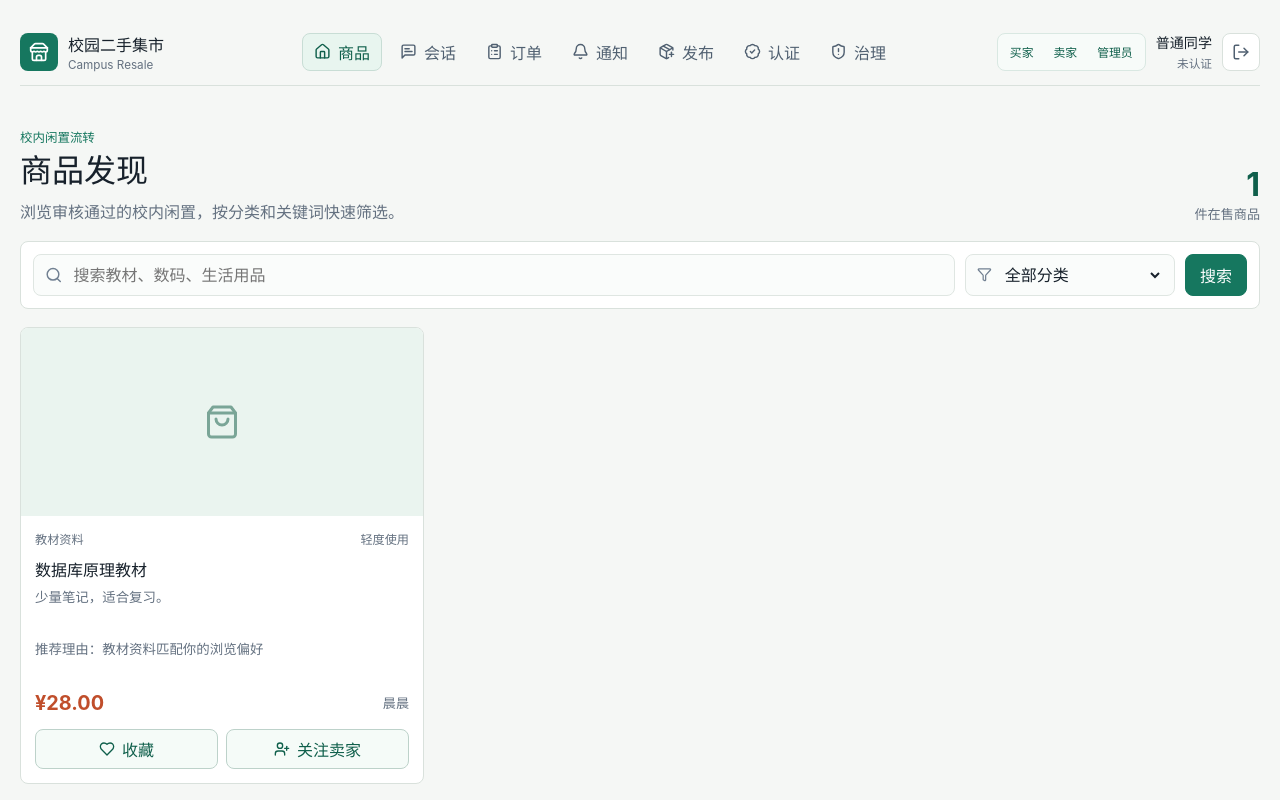
Scenario: App › sends authenticated trade-ineligible users to campus verification before publishing
expect the text "普通同学" is shown: met, box [1156,32,1212,52]
Click the button "发布".
click(686, 52)  # box [646,32,726,70]
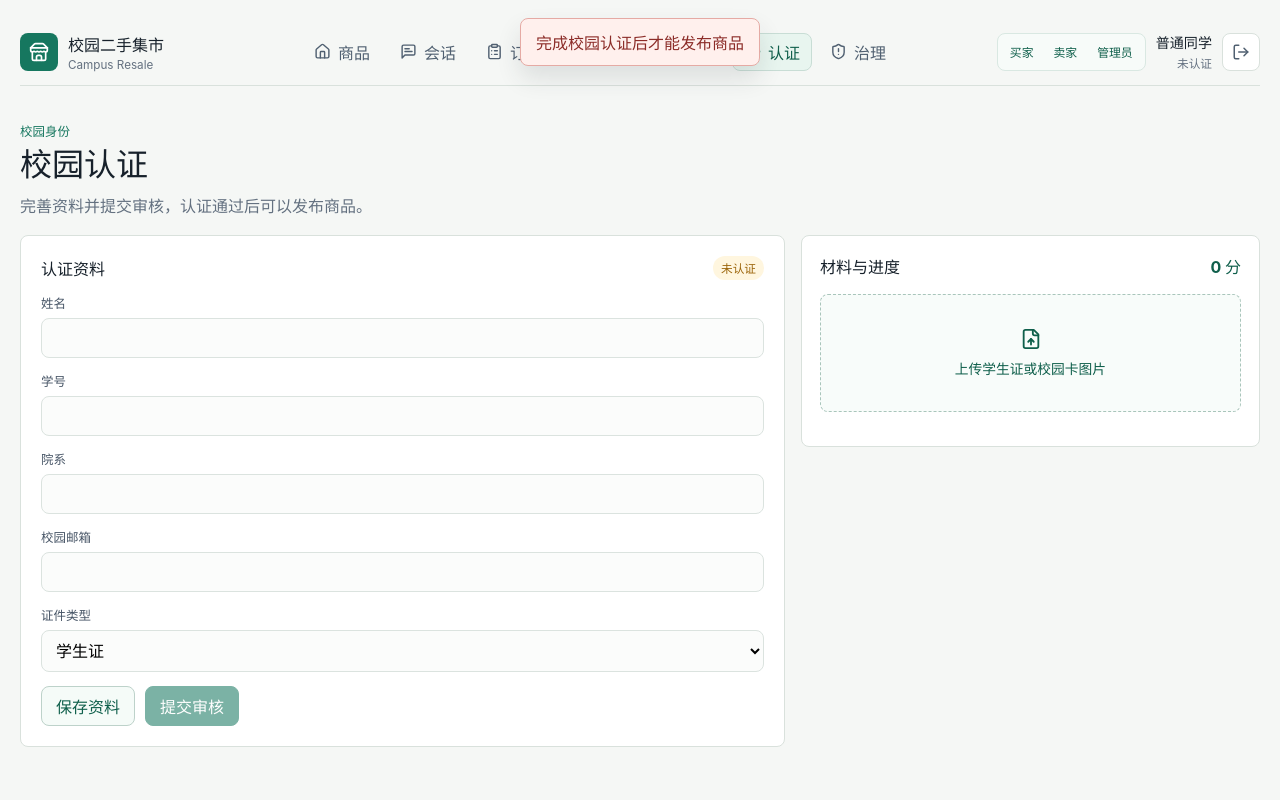
expect the heading "校园认证" is shown: met, box [20,145,148,184]
expect the text "完成校园认证后才能发布商品" is shown: met, box [520,18,760,66]
